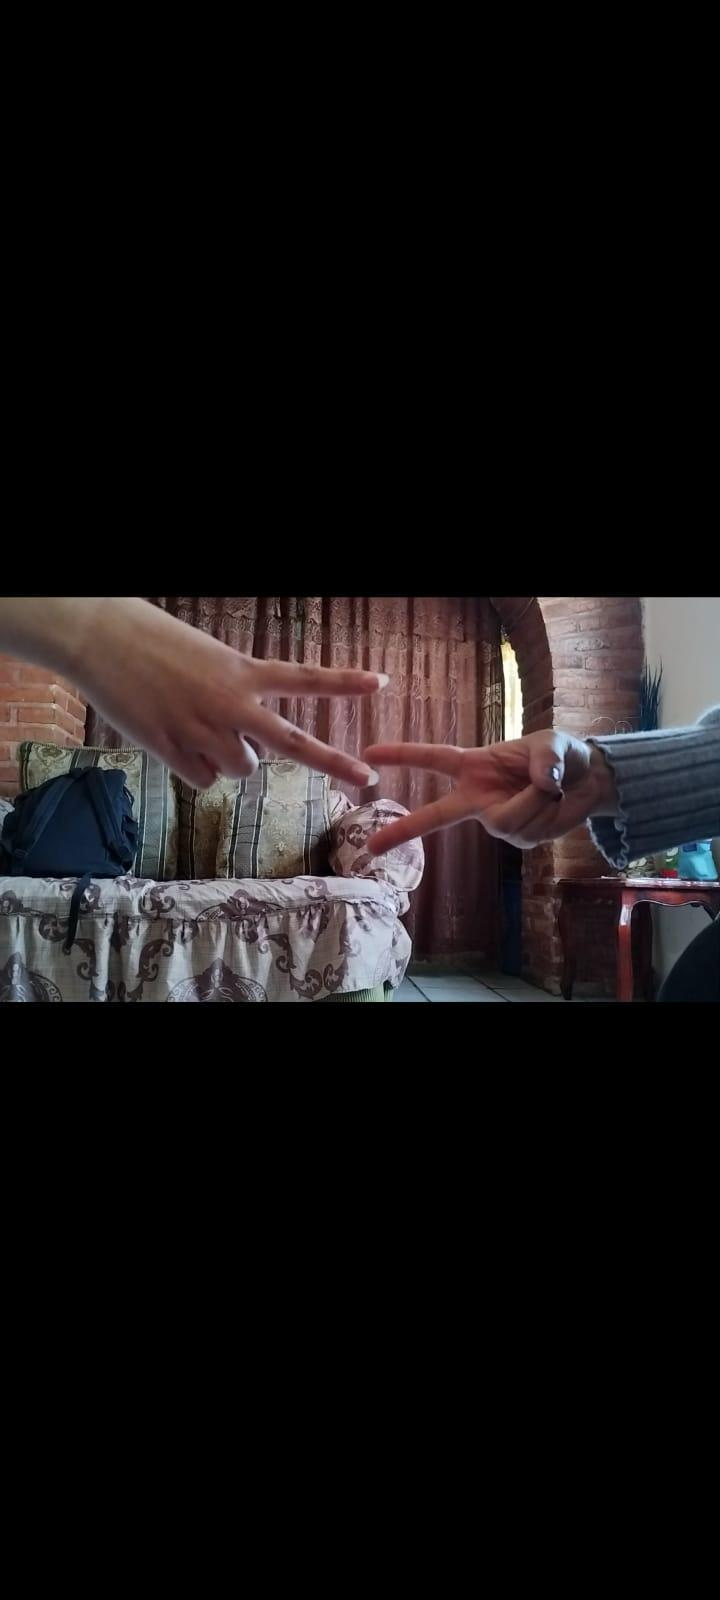Scissor: (66, 597, 396, 806), (350, 722, 629, 865)
